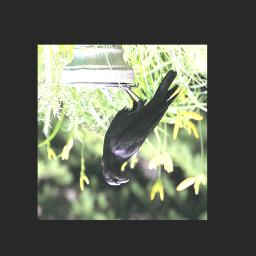Crow: (101, 68, 183, 186)
